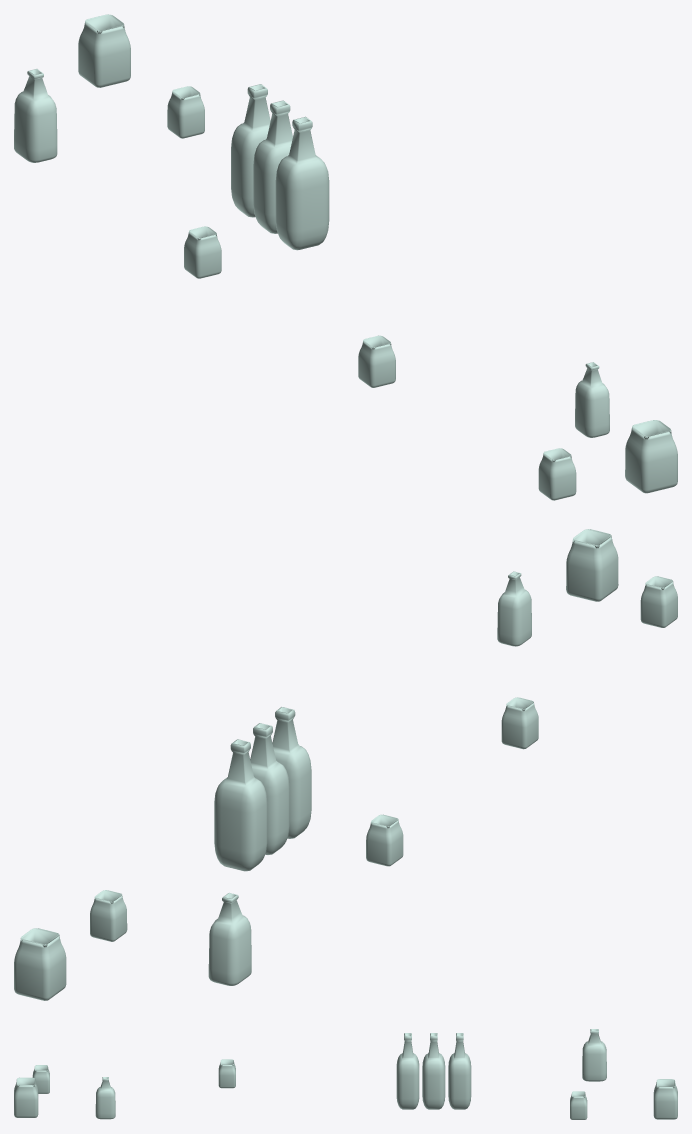
The model's file is bottles1 (1).fbx.
3 renders of one model, top to bottom at view 1: azimuth 30°, elevation 25°; view 2: azimuth 150°, elevation 25°; view 3: azimuth 270°, elevation 25°, orthographic. The views are drawn at different scales.
Visible parts, largest first — view 1: Cube.033, Cube.041, Cube.051, Cube.030, Cube.026, Cube.032, Cube.050, Cube.054, Cube.039, Cube.045, Cube.029; view 2: Cube.026, Cube.051, Cube.041, Cube.030, Cube.032, Cube.033, Cube.050, Cube.029, Cube.045, Cube.054, Cube.039; view 3: Cube.032, Cube.026, Cube.033, Cube.030, Cube.041, Cube.051, Cube.050, Cube.045, Cube.039, Cube.054.
Boxes of the visible parts, x1,y1,x2,y2 form: Cube.033: (275,116,329,250); Cube.041: (78,14,130,87); Cube.051: (625,420,677,493); Cube.030: (14,69,57,162); Cube.026: (231,84,270,217); Cube.032: (253,100,292,233); Cube.050: (575,362,609,437); Cube.054: (538,448,576,500); Cube.039: (167,86,204,138); Cube.045: (358,335,395,387); Cube.029: (184,226,221,278); Cube.026: (214,739,267,871); Cube.051: (566,529,618,601); Cube.041: (14,928,66,1000); Cube.030: (208,893,251,985); Cube.032: (250,723,289,854); Cube.033: (272,707,311,838); Cube.050: (497,571,531,646); Cube.029: (366,814,403,866); Cube.045: (501,697,538,749); Cube.054: (640,576,677,627); Cube.039: (90,890,127,941); Cube.032: (422,1033,445,1109); Cube.026: (448,1033,471,1109); Cube.033: (396,1033,419,1109); Cube.030: (582,1029,606,1081); Cube.041: (653,1079,677,1119); Cube.051: (14,1077,38,1117); Cube.050: (95,1077,115,1119); Cube.045: (218,1059,235,1088); Cube.039: (570,1091,587,1119); Cube.054: (32,1065,49,1093).
Size of the model in its own units: 56.04 by 41.61 by 338.
1 material, 1 textured.
